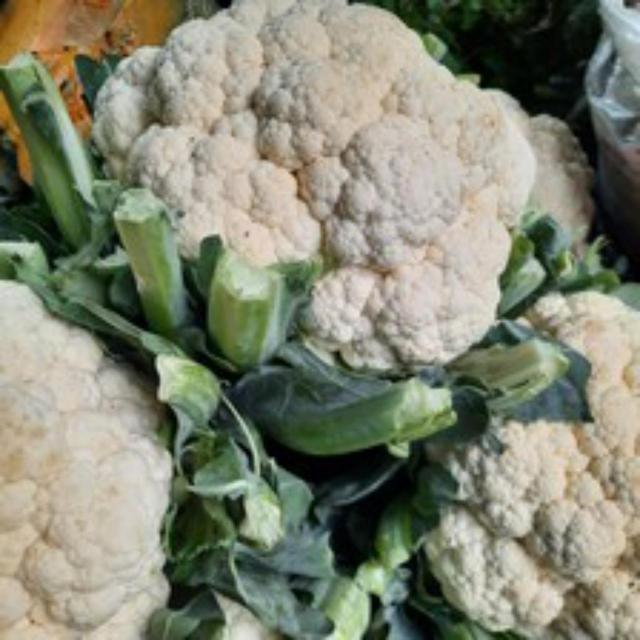cauliflower: (83, 0, 545, 434)
